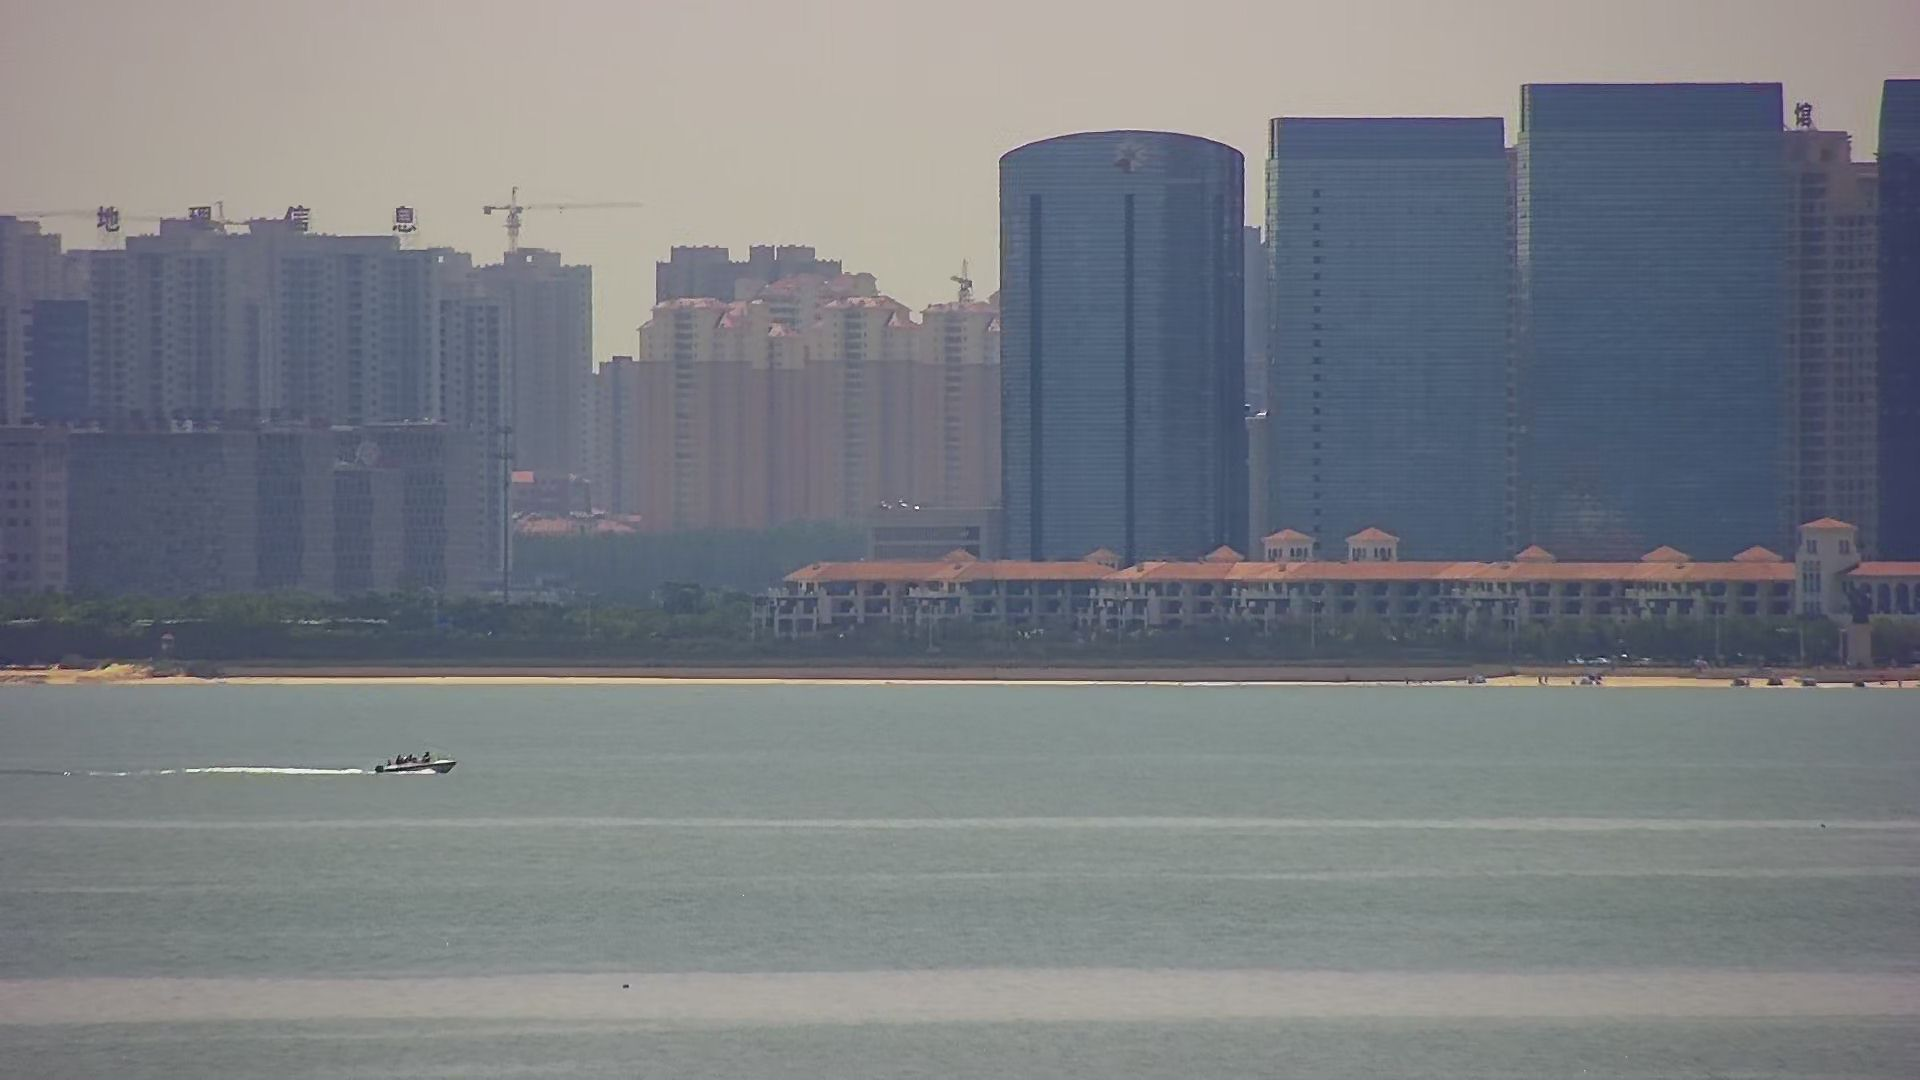boat: (375, 748, 459, 775)
